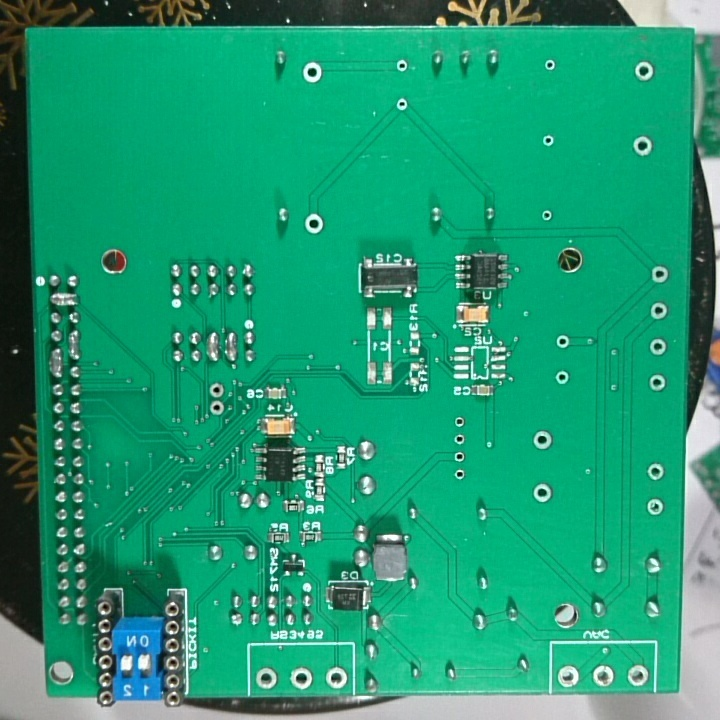F: (254, 665, 282, 693), (288, 663, 315, 692), (590, 662, 618, 689), (554, 662, 582, 689), (322, 664, 349, 692), (625, 660, 651, 688), (302, 209, 326, 238), (300, 59, 324, 86), (631, 133, 655, 160), (632, 58, 655, 85), (531, 481, 554, 506), (531, 428, 554, 452), (648, 299, 671, 323), (645, 495, 667, 520), (648, 263, 671, 285), (647, 335, 669, 358), (647, 373, 670, 395), (645, 461, 666, 484), (206, 398, 228, 418), (206, 380, 227, 400), (553, 367, 571, 388), (451, 446, 469, 465), (554, 332, 571, 351), (393, 94, 410, 113), (394, 56, 410, 76), (451, 429, 469, 446), (542, 56, 559, 74), (539, 132, 557, 149), (451, 466, 468, 483), (451, 414, 468, 430), (539, 206, 554, 224)
P: (45, 289, 82, 310), (45, 345, 65, 380), (65, 326, 83, 363), (222, 328, 239, 364), (203, 328, 219, 363)
